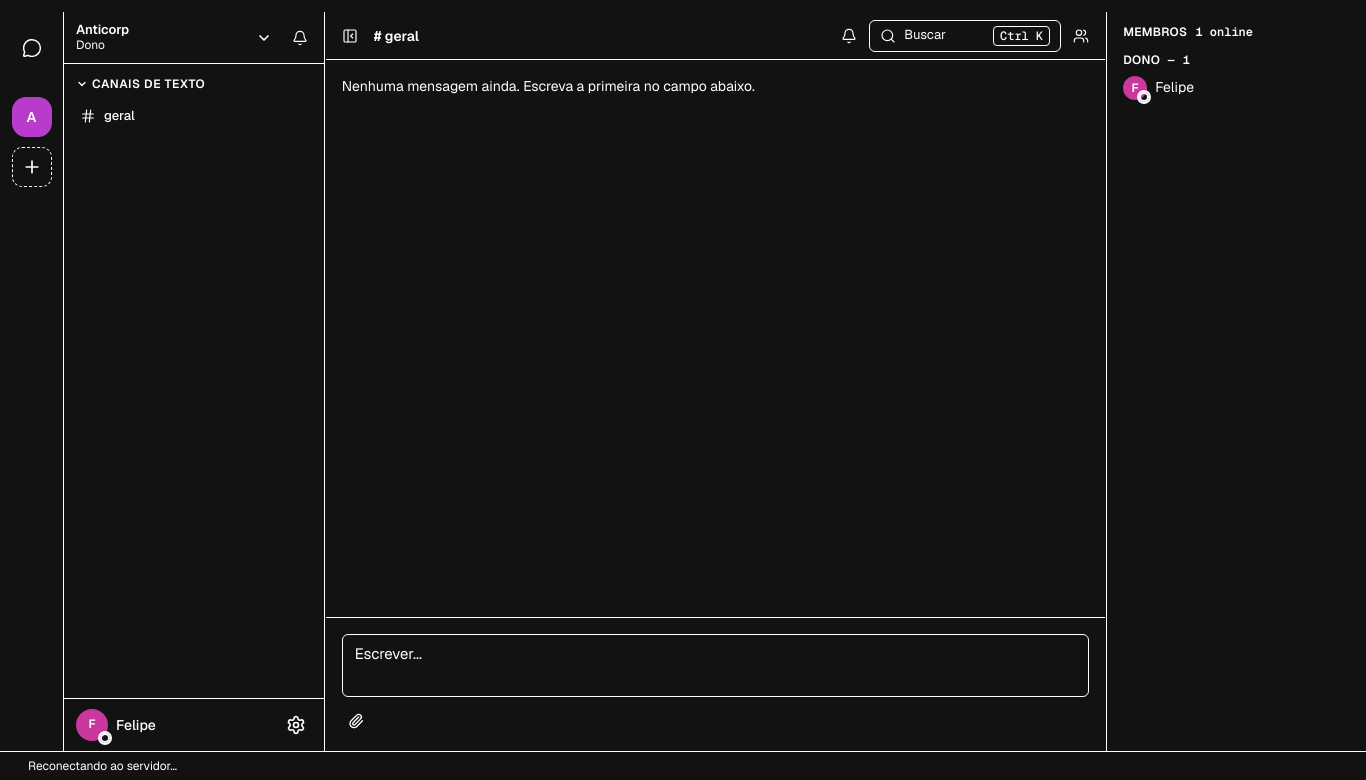
Test case: paineis redimensionaveis › o painel de membros recolhe e volta pelo mesmo botão
Click the 2nd button named "Ocultar membros" at (1081, 36), box x1=1065 y1=20 x2=1097 y2=52
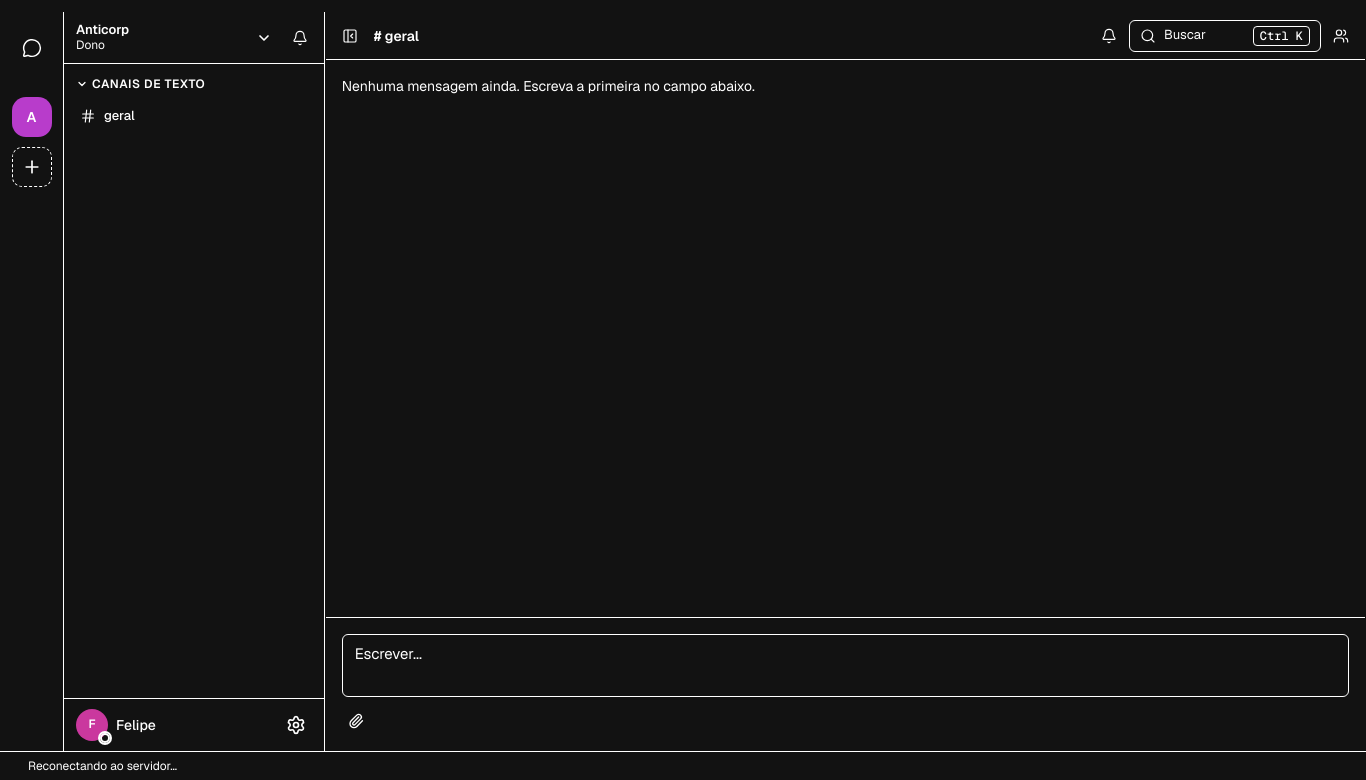
Expected: the 2nd button named "Mostrar membros" is collapsed
Click the 2nd button named "Mostrar membros" at (1341, 36), box x1=1325 y1=20 x2=1357 y2=52
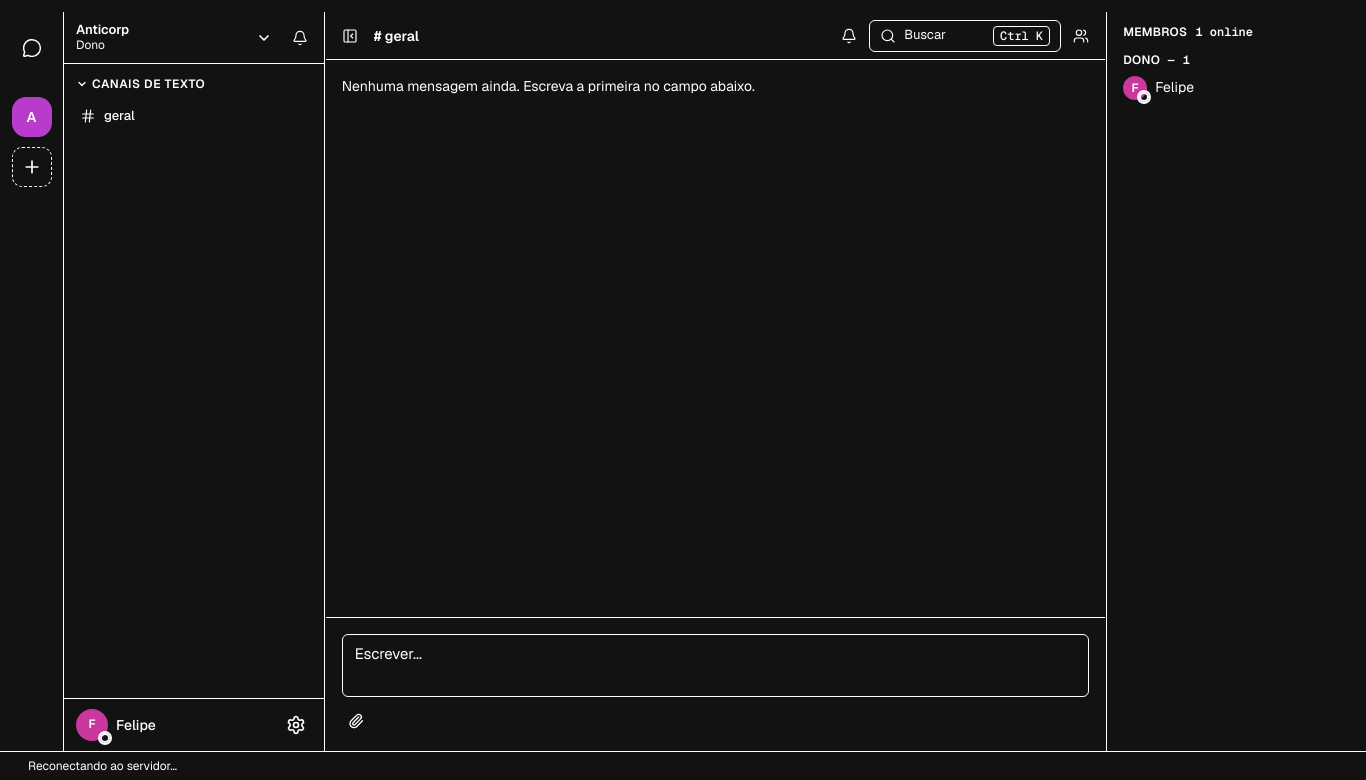
Expected: the 2nd button named "Ocultar membros" is expanded, x1=1065 y1=20 x2=1097 y2=52
